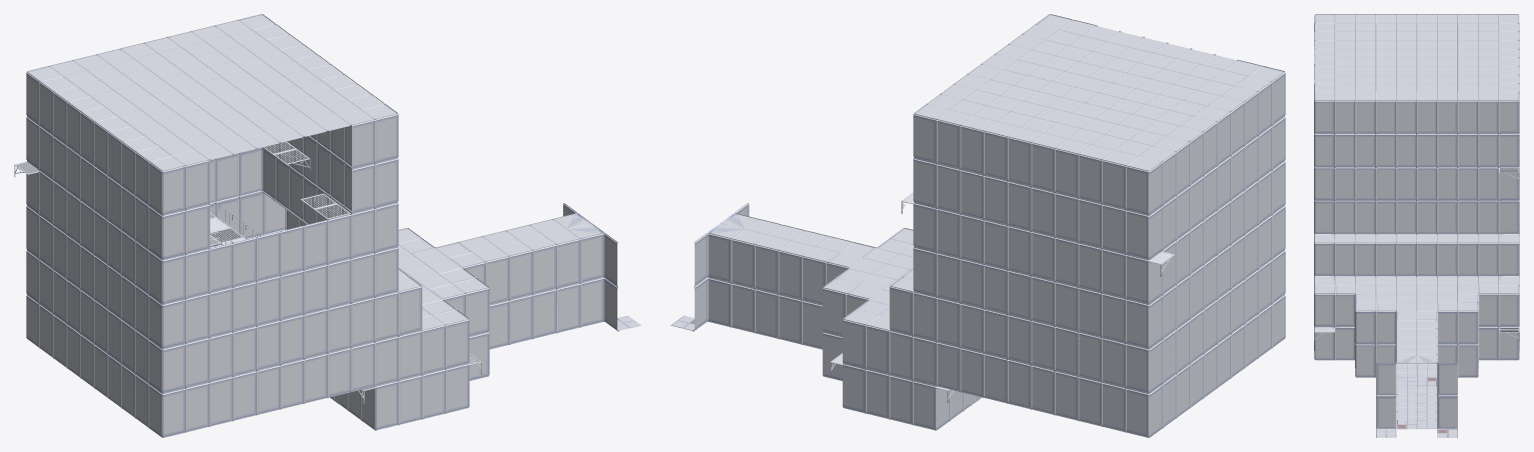
The model's file is Level_3_02.fbx.
3 views of the same model, side by side, from view 1: azimuth 30°, elevation 25°; view 2: azimuth 150°, elevation 25°; view 3: azimuth 270°, elevation 25° (orthographic). The views are drawn at different scales.
Visible parts, largest first — view 1: polySurface1494; view 2: polySurface1494; view 3: polySurface1494.
Boxes of the visible parts, box(x1,y1,x2,y2) form: polySurface1494: box(14, 14, 641, 437); polySurface1494: box(670, 14, 1285, 437); polySurface1494: box(1314, 14, 1519, 437).
Bounding box in the file's own units: 4500 × 2520 × 2010.
